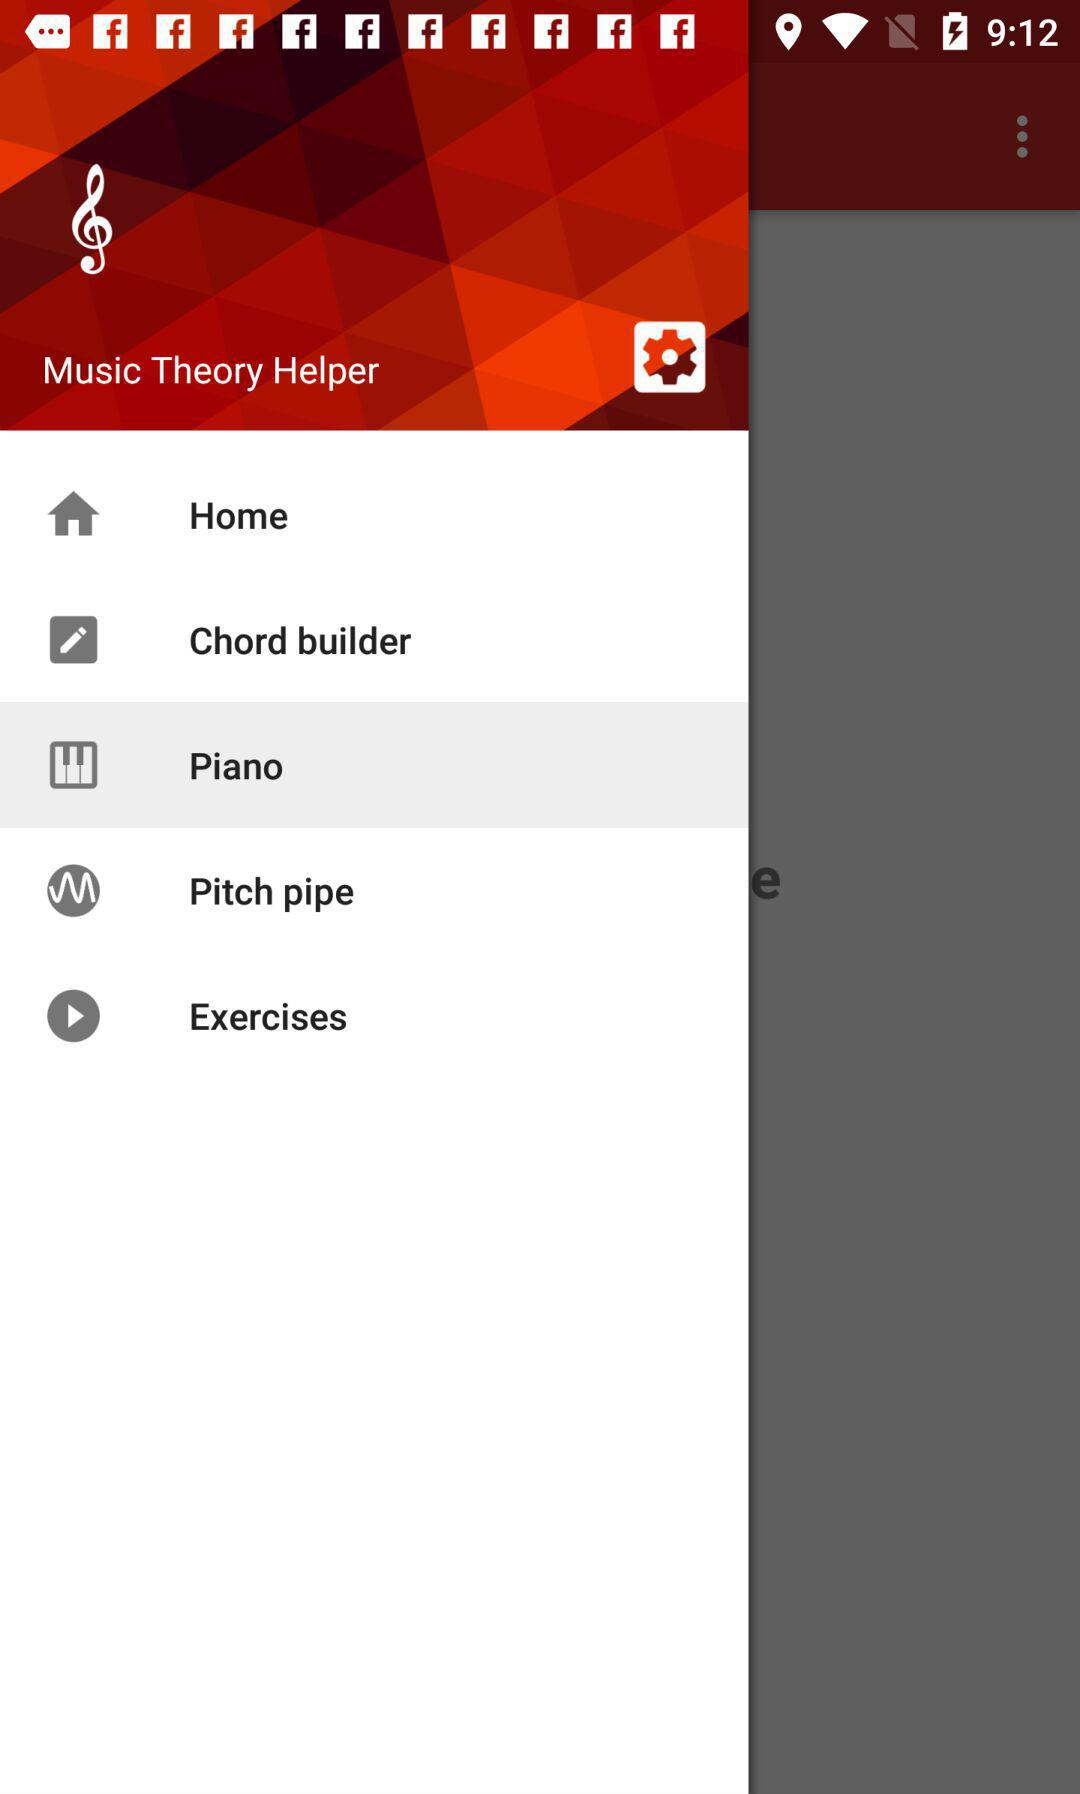Drawer: (1, 65, 749, 1794)
Icon: (633, 322, 707, 395), (47, 989, 102, 1044), (47, 491, 101, 538), (50, 616, 99, 665), (1015, 115, 1030, 160)
Image: (70, 163, 115, 277), (47, 864, 102, 919), (49, 739, 99, 791)
Text: (44, 355, 380, 393), (190, 625, 413, 657), (191, 876, 355, 914), (190, 1002, 348, 1032), (190, 501, 290, 531), (190, 751, 284, 782)
UpperTaskBar: (1, 1, 1080, 64)
